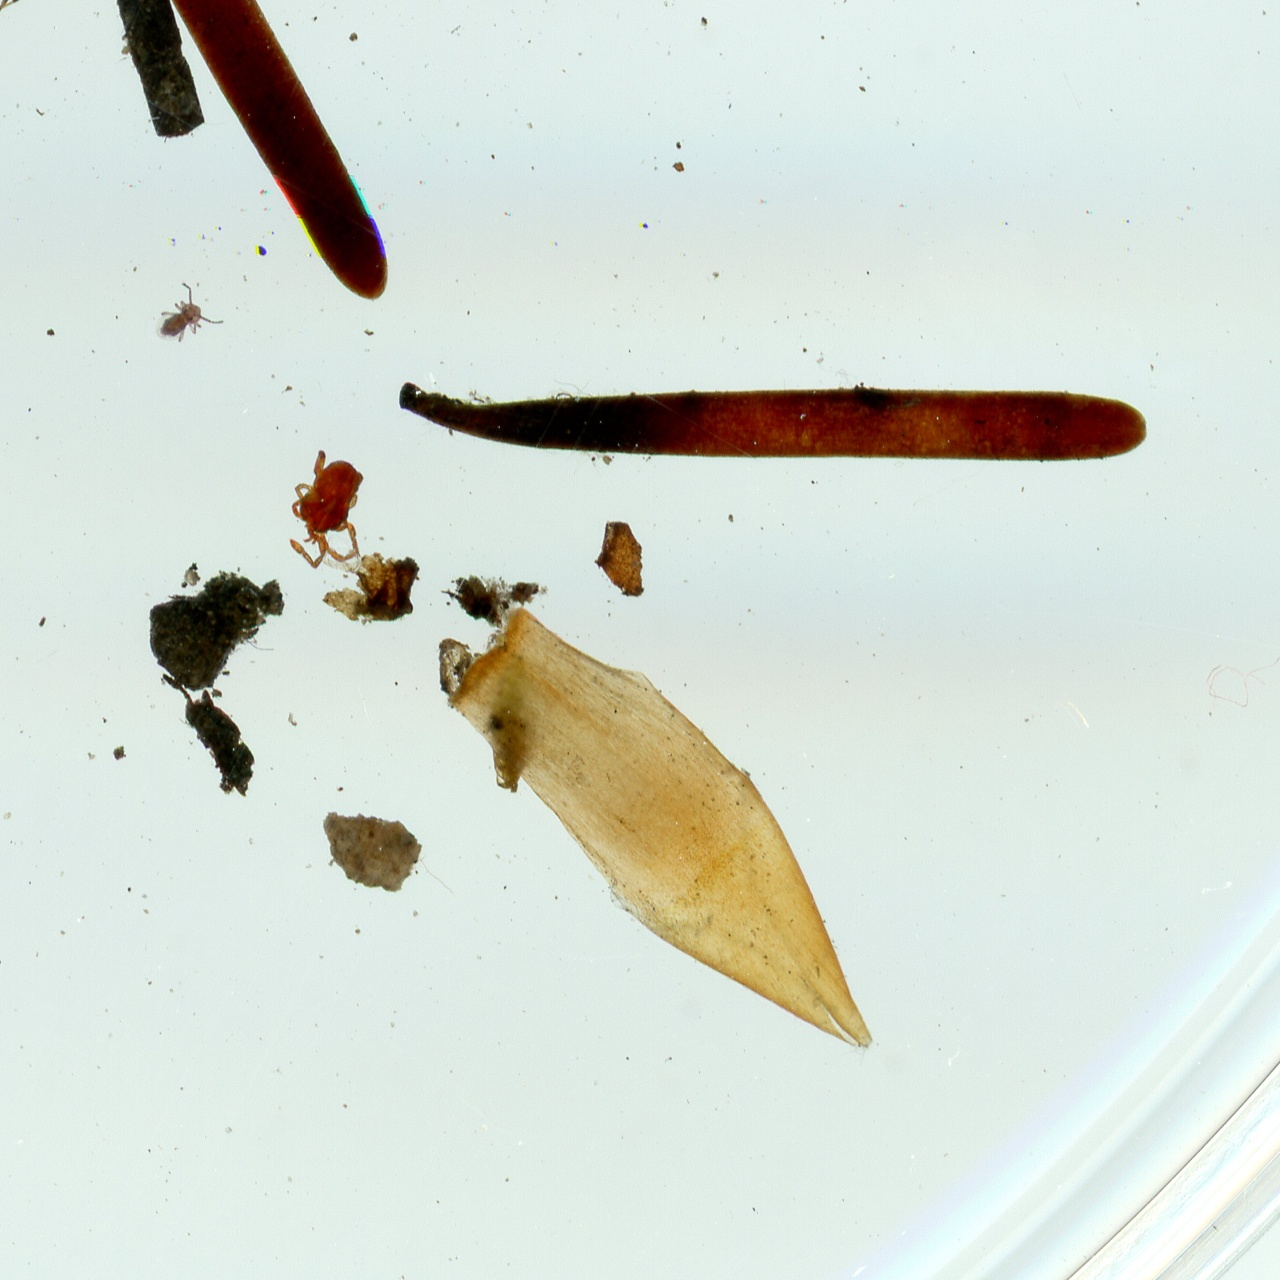arthropod: (288, 448, 362, 564), (145, 276, 227, 359), (0, 0, 119, 53)
